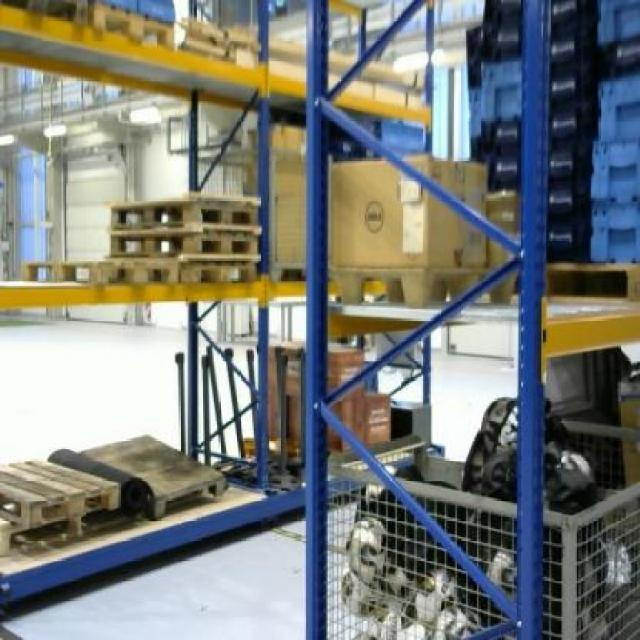box: (328, 154, 489, 264), (270, 122, 308, 262)
